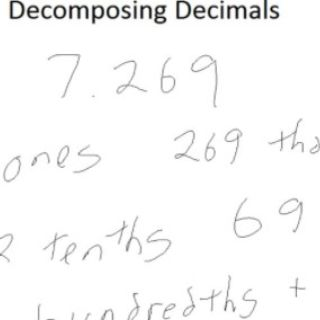.: (90, 92, 97, 100)
2: (112, 57, 145, 95), (171, 127, 201, 163)
6: (231, 196, 264, 239), (160, 56, 177, 93), (202, 130, 219, 163)
7: (46, 46, 83, 99)
9: (190, 52, 222, 109), (279, 196, 306, 235), (224, 125, 245, 166)
